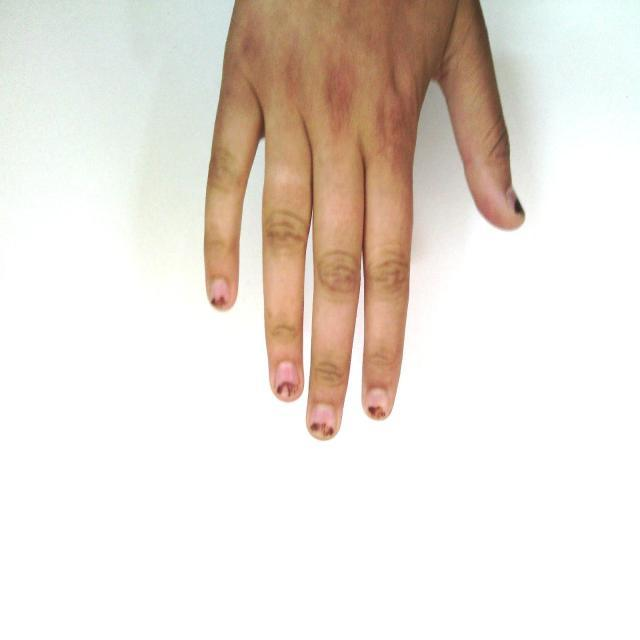Fingernail: (310, 405, 335, 438), (276, 362, 297, 395), (366, 388, 388, 418), (210, 280, 228, 304), (509, 189, 524, 216)
